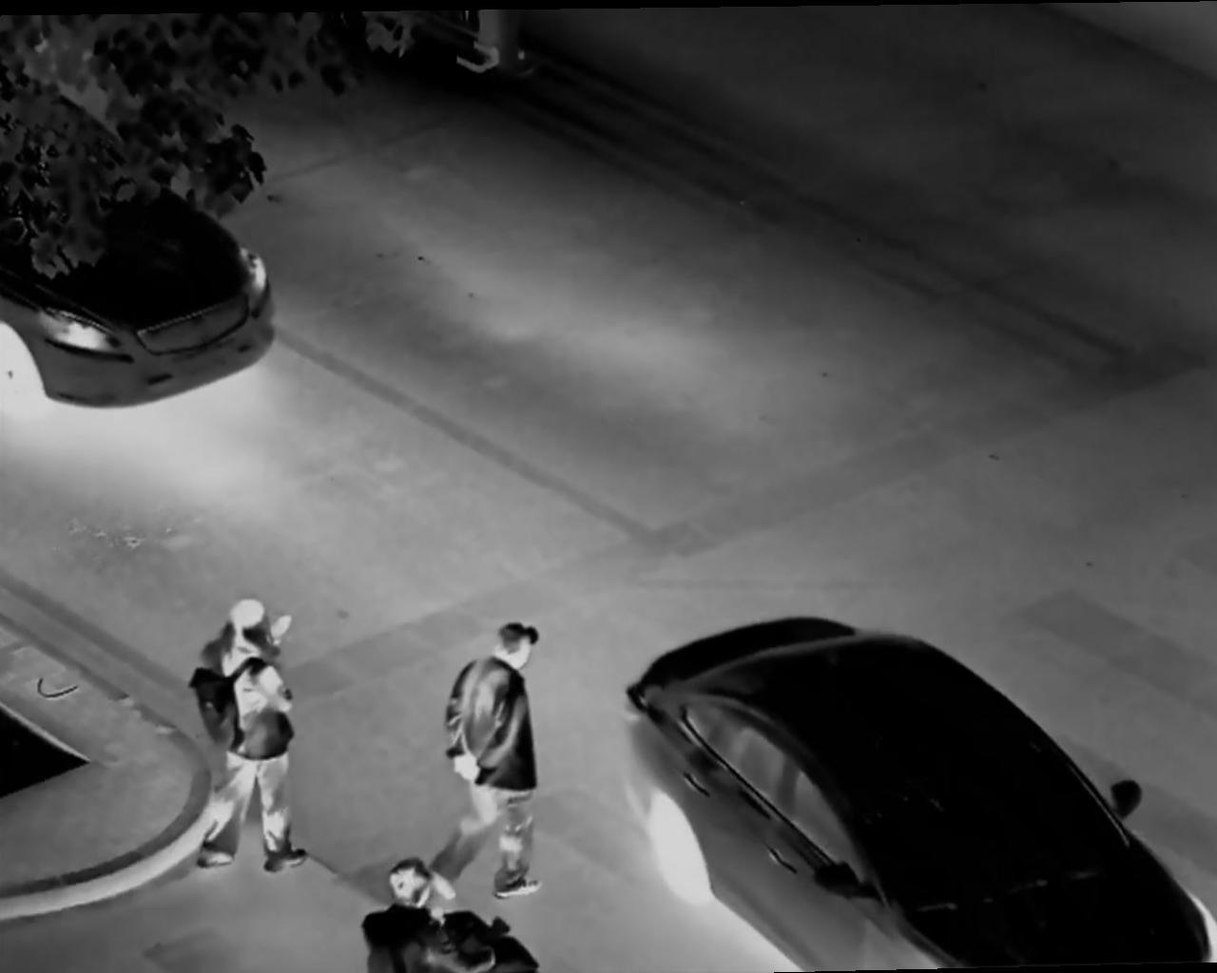person: (433, 617, 571, 899), (203, 595, 307, 877), (357, 861, 504, 973)
